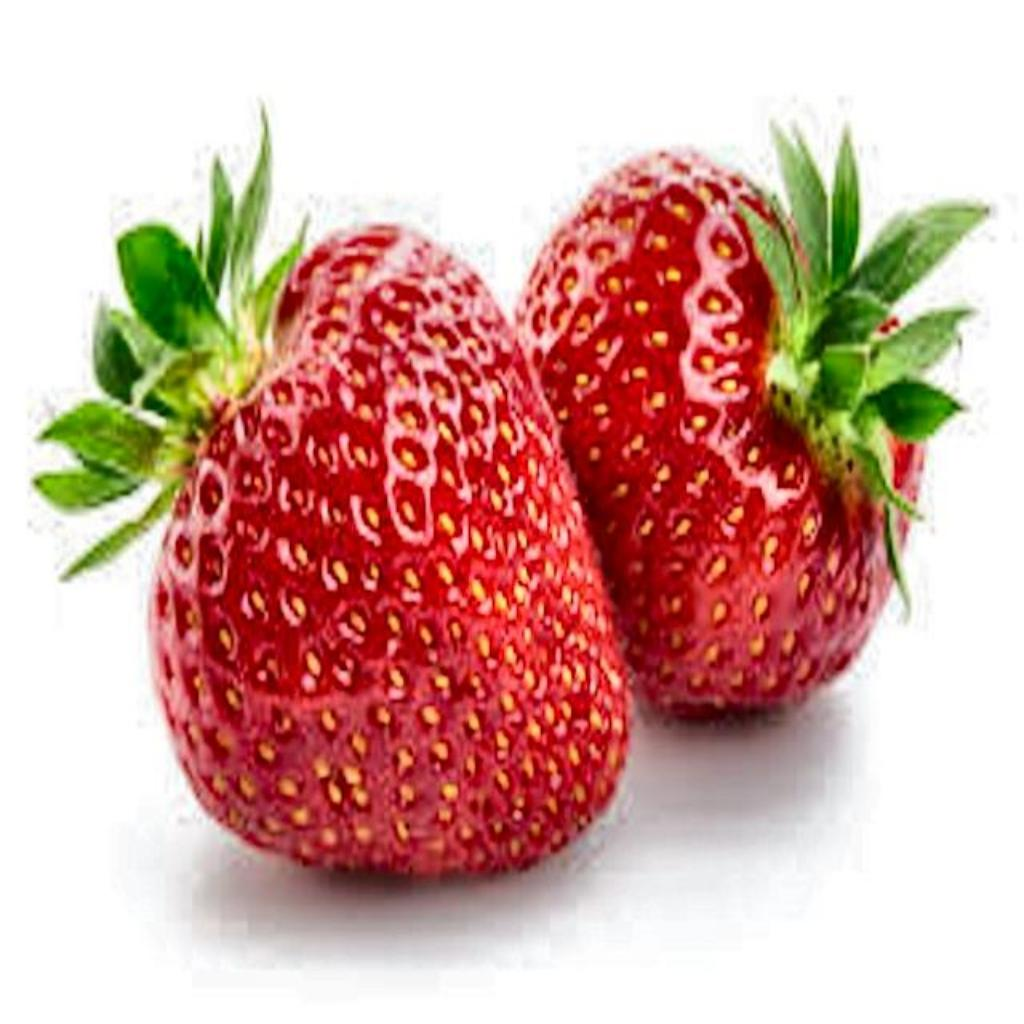strawberry: (36, 118, 628, 873), (518, 135, 986, 717)
